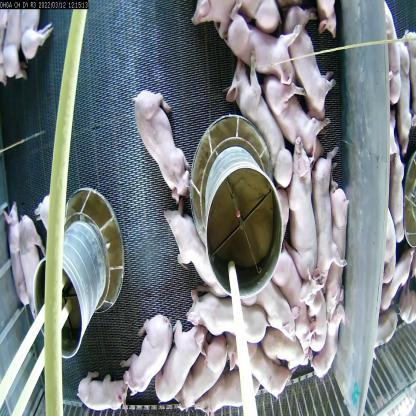Pig: (126, 82, 202, 201), (228, 60, 294, 182), (156, 205, 231, 297), (225, 4, 299, 81), (260, 70, 321, 159), (286, 1, 335, 110), (288, 131, 318, 290), (122, 308, 176, 396), (324, 192, 356, 322), (310, 158, 338, 296), (190, 296, 266, 344), (159, 317, 200, 405), (179, 340, 225, 416), (193, 365, 262, 415), (246, 275, 298, 337), (231, 336, 286, 393), (272, 246, 308, 322), (309, 306, 342, 385), (264, 322, 315, 372), (21, 218, 44, 296), (74, 376, 119, 415), (6, 209, 24, 292)
